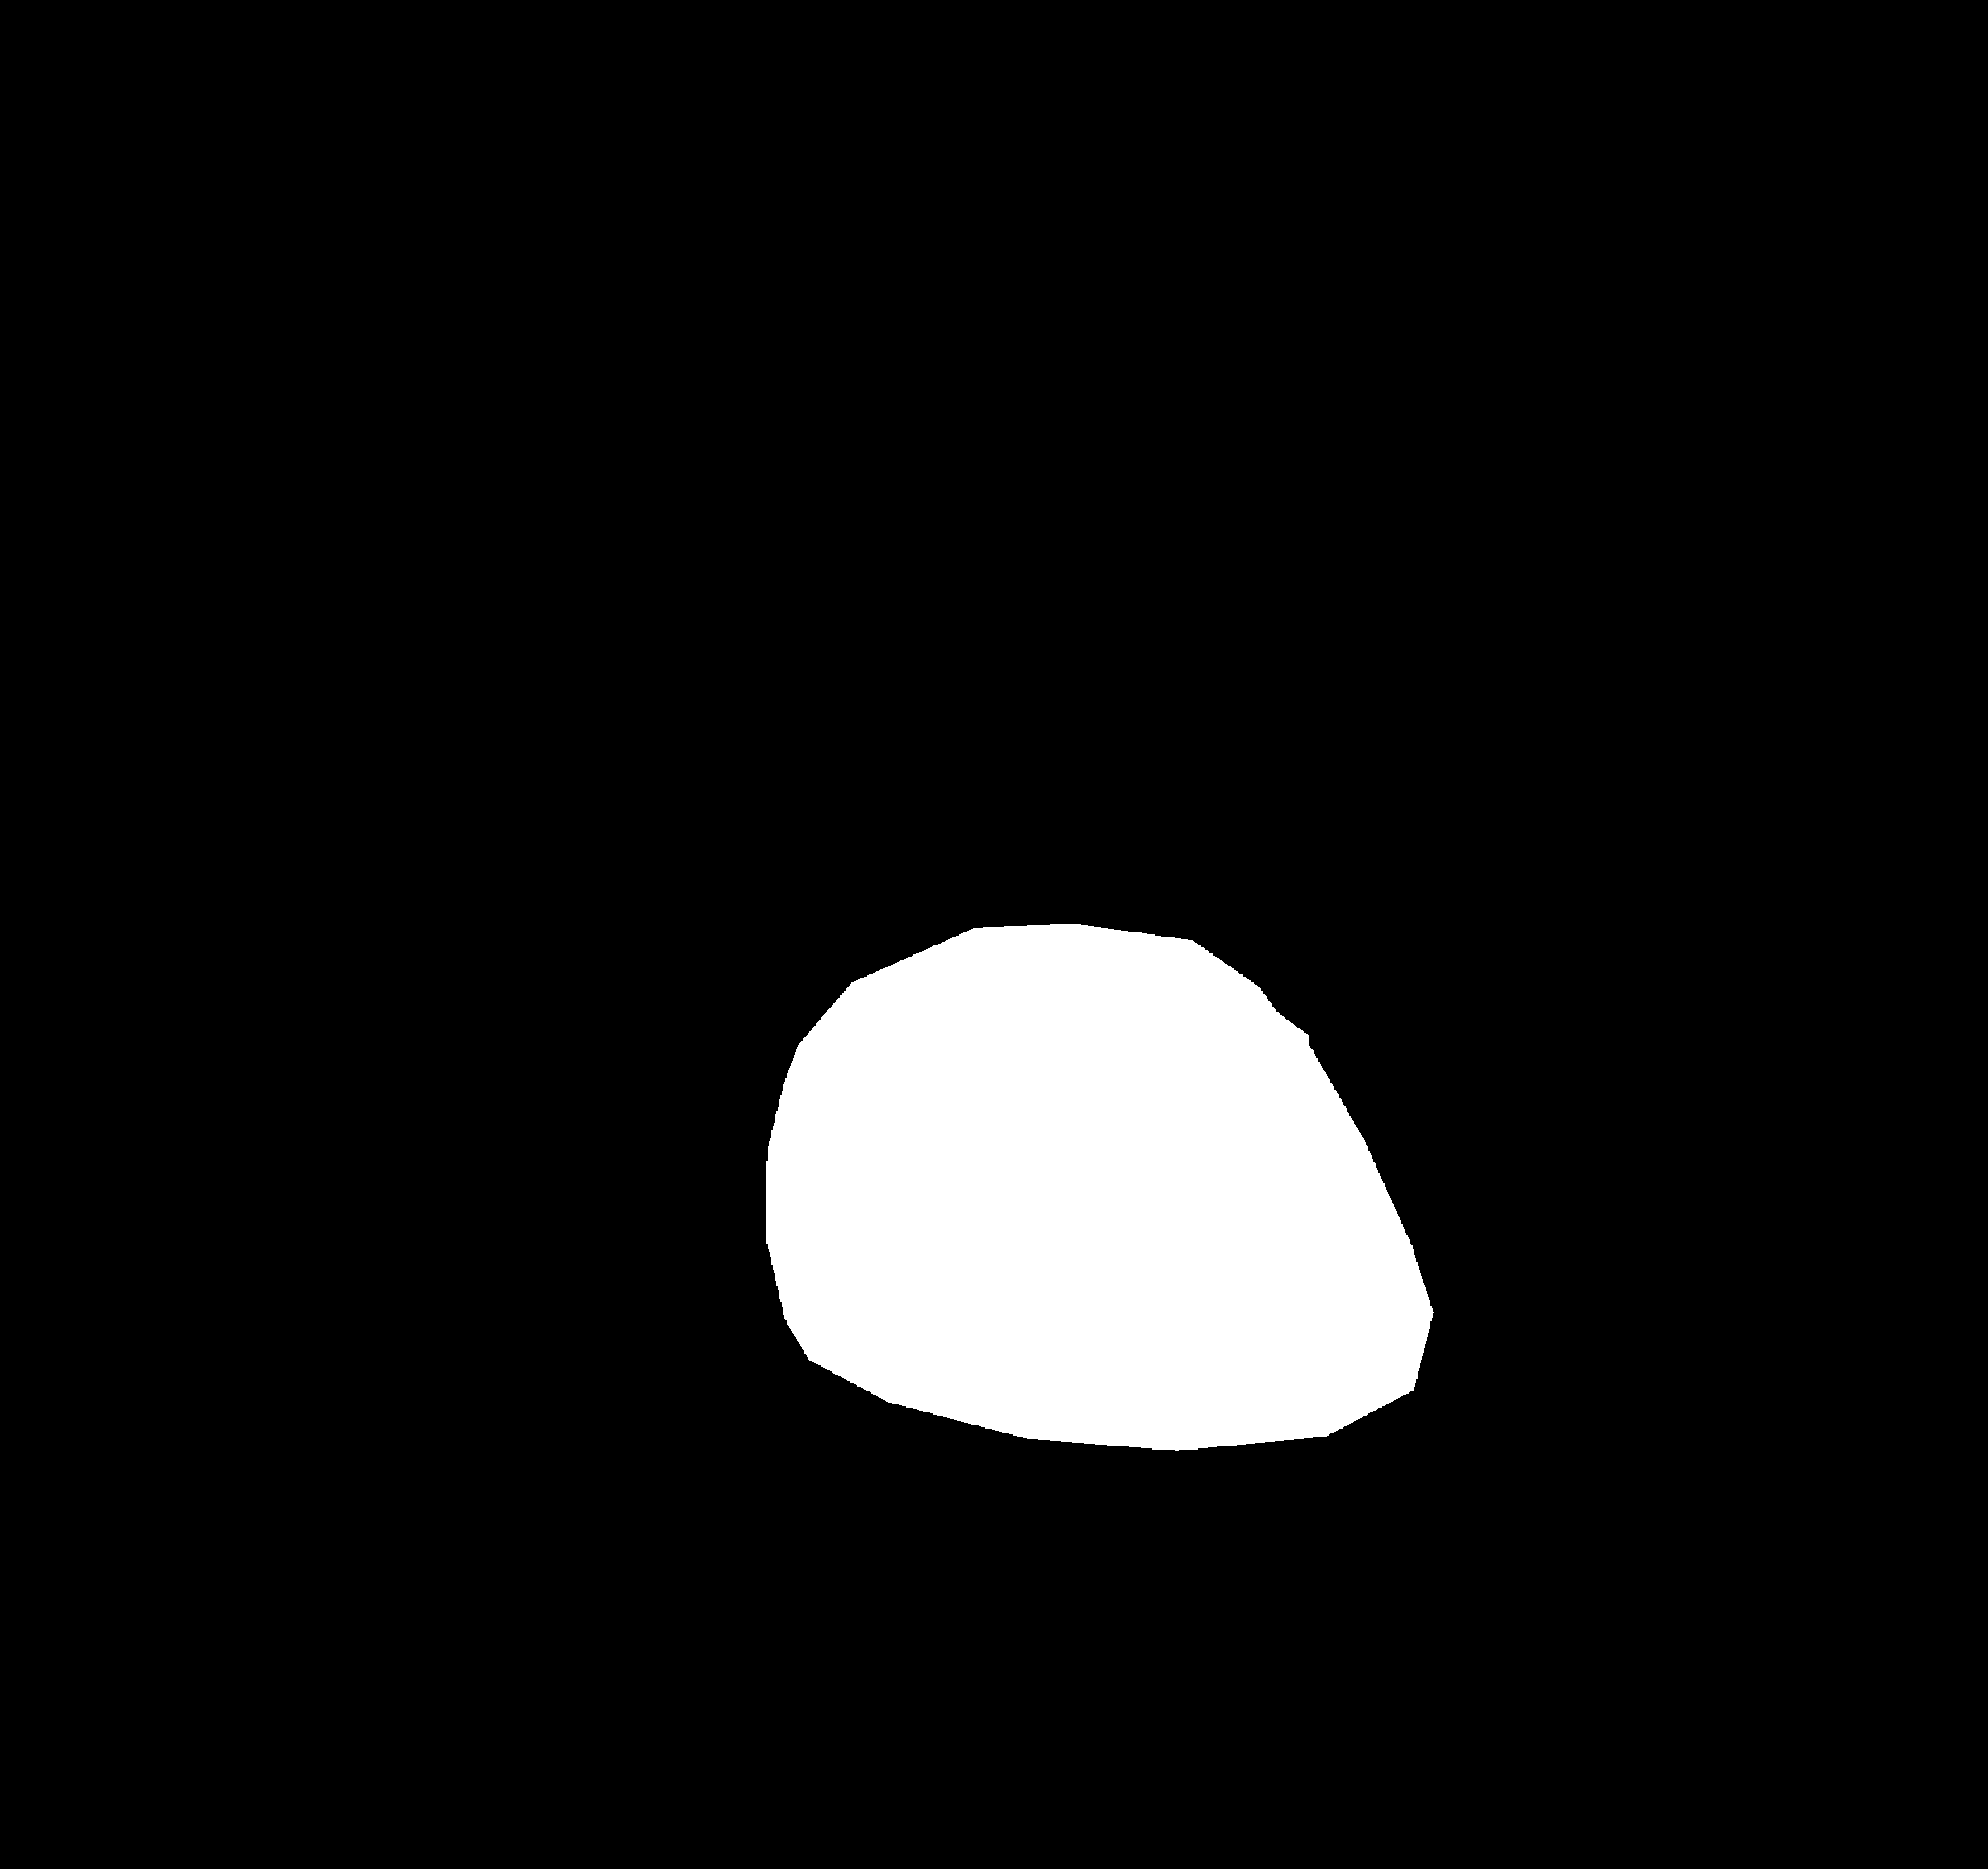heart: (764, 959, 1489, 1451)
left_lung: (162, 209, 882, 1574)
right_lung: (1040, 204, 1777, 1583)
